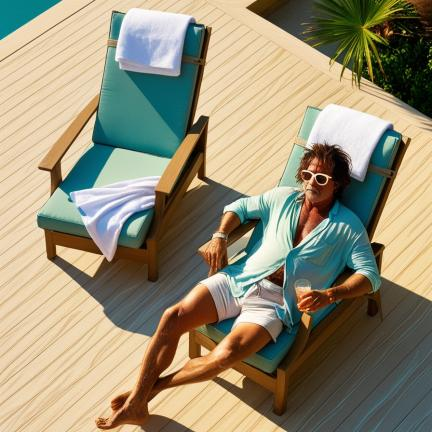guest on chair: (96, 105, 409, 429)
occupied chair: (37, 8, 211, 281)
